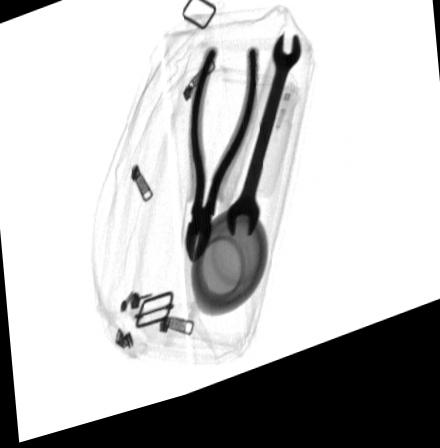Pliers: (184, 56, 257, 275)
Wrench: (226, 45, 300, 251)
